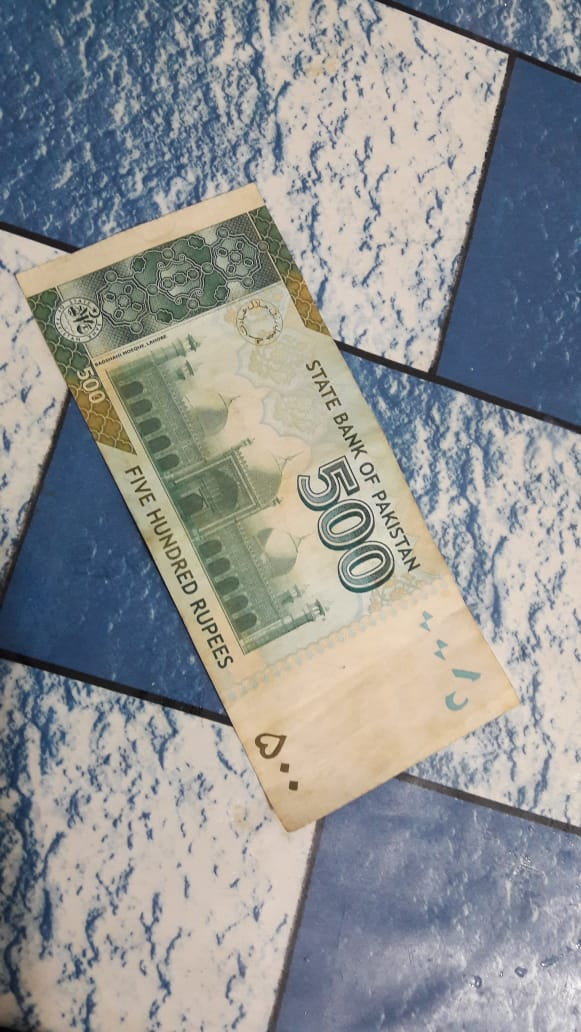500 rupee: (25, 173, 534, 854)
